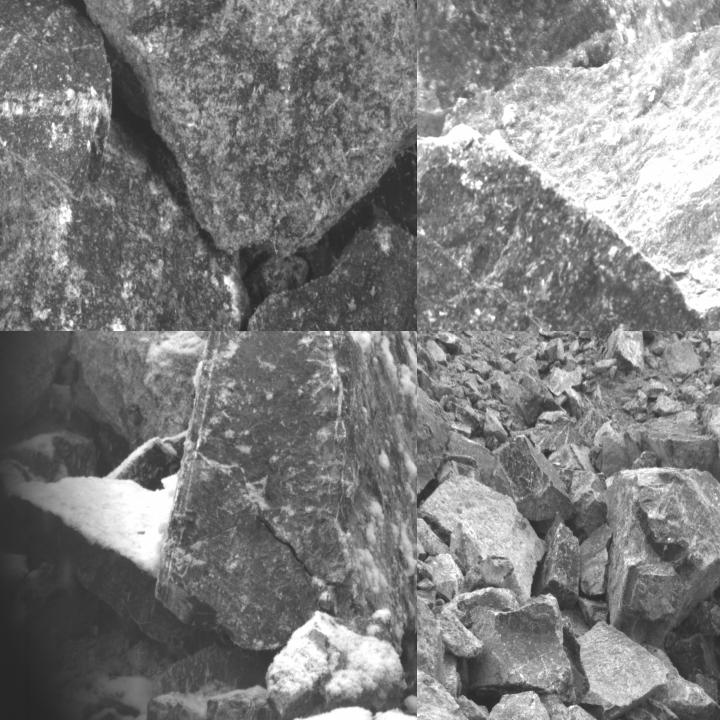stone: (58, 0, 416, 261), (447, 2, 719, 330), (154, 331, 416, 652), (417, 94, 708, 330), (0, 118, 251, 330), (417, 0, 719, 135), (0, 0, 113, 195), (606, 464, 719, 652), (218, 225, 416, 330), (71, 331, 220, 450), (264, 616, 408, 719), (424, 473, 534, 595), (472, 594, 572, 702), (578, 619, 670, 706), (500, 433, 572, 529), (417, 376, 452, 514), (417, 540, 447, 693), (510, 408, 608, 452), (510, 357, 568, 423), (538, 517, 579, 610), (558, 469, 609, 527), (578, 524, 612, 596), (540, 693, 627, 719), (475, 692, 553, 719), (262, 256, 309, 293), (604, 331, 645, 373), (548, 365, 582, 396), (579, 331, 634, 342)
